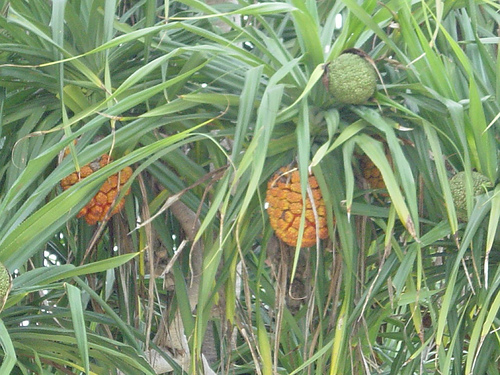pineapple: (266, 161, 336, 245), (63, 144, 135, 222), (444, 165, 496, 225), (356, 134, 410, 189)
